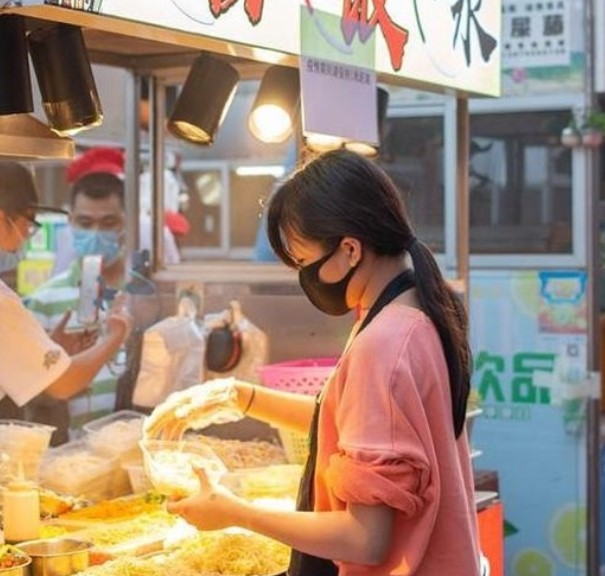face_with_mask: (265, 150, 389, 317), (73, 171, 132, 272), (0, 161, 40, 273)
